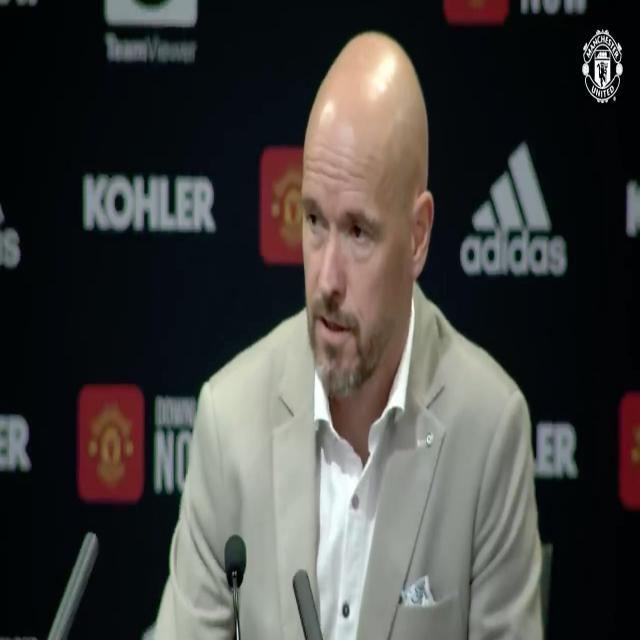Adidas: (460, 140, 568, 276)
Kohler: (84, 173, 216, 232)
TeamViewer: (104, 0, 197, 64)
